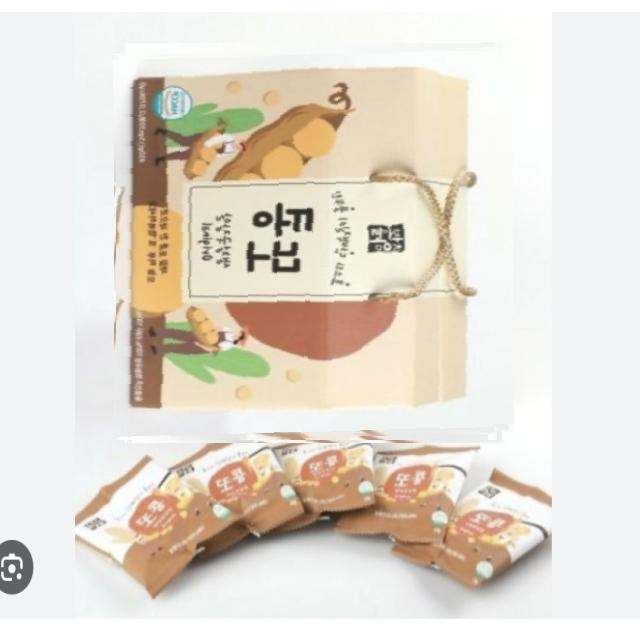biodegradable: (116, 46, 511, 440)
